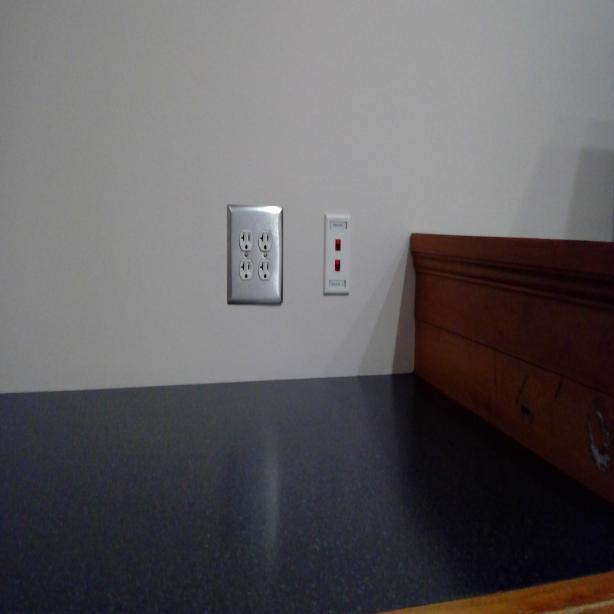typeb: (237, 228, 254, 252), (238, 259, 254, 283), (258, 257, 272, 280), (258, 230, 272, 251)
